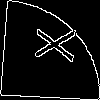X: (25, 24, 76, 63)
